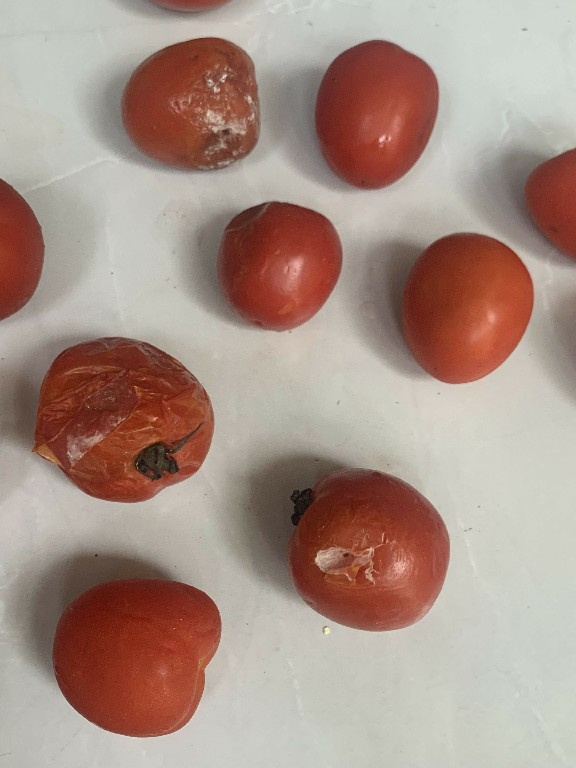NG: (23, 335, 218, 502), (268, 467, 456, 631), (112, 32, 259, 173), (210, 197, 348, 333)
OK: (46, 572, 228, 742), (392, 230, 535, 389), (307, 35, 445, 193)
